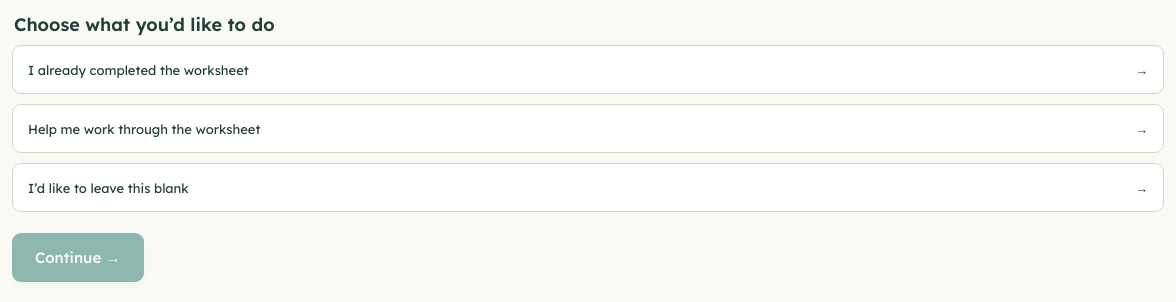
Test case: does not expose worksheet line references in the completed-result flow
Click the button "I already completed the worksheet →". click: [138, 70]
box: top-left (12, 45), bottom-right (1164, 94)
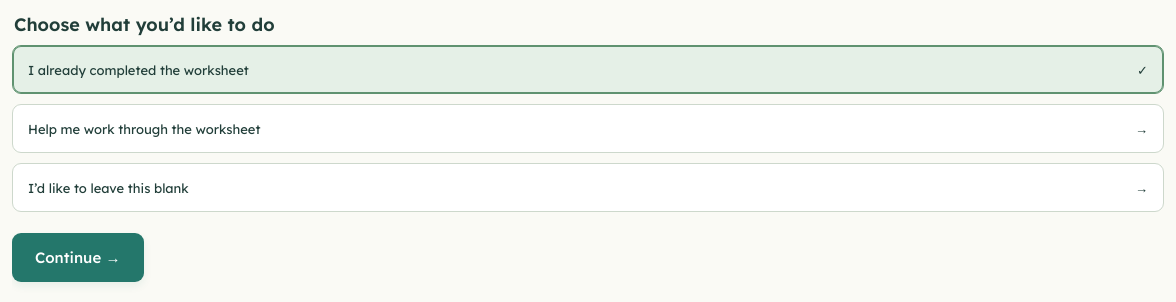
Click the button "Continue →". click: [78, 258]
box: top-left (12, 233), bottom-right (144, 282)
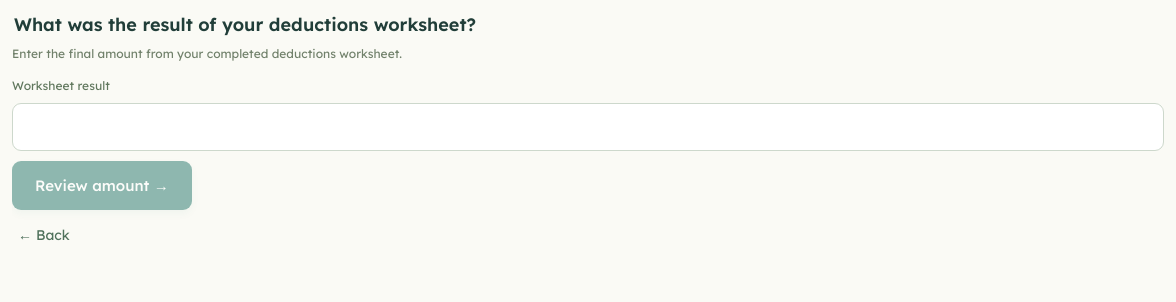
Check: the text "What was the result of your deductions worksheet?" is shown, box top-left (12, 12), bottom-right (478, 37)
